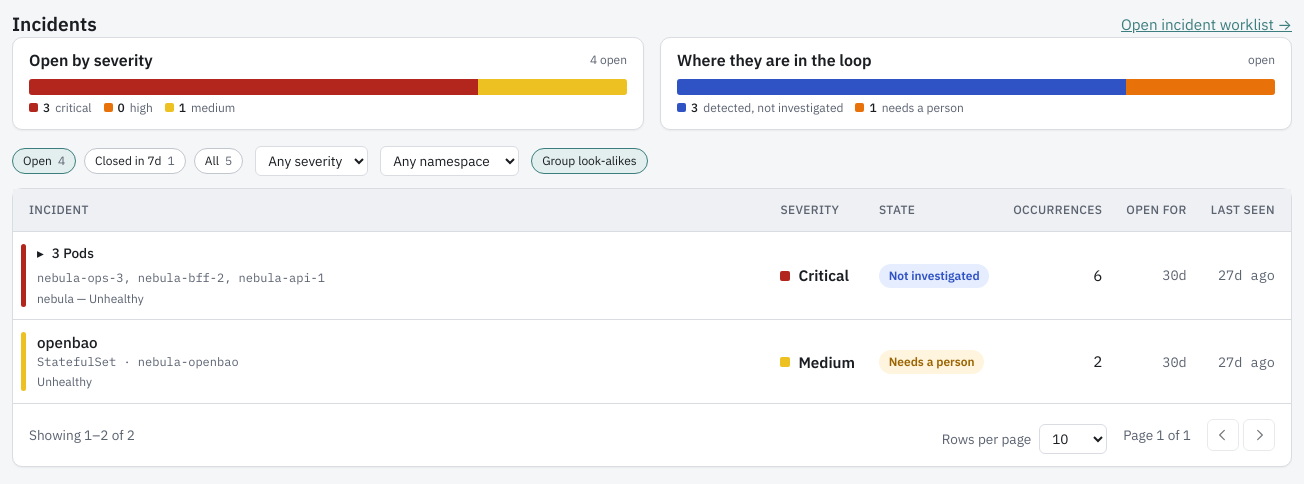
Cluster incidents tab › shows open by default, and closed ones on request
The image size is (1304, 484).
Expected: the text "old" is not shown
Click the button "Closed in 7d 1": [135, 161] box [84,148,186,174]
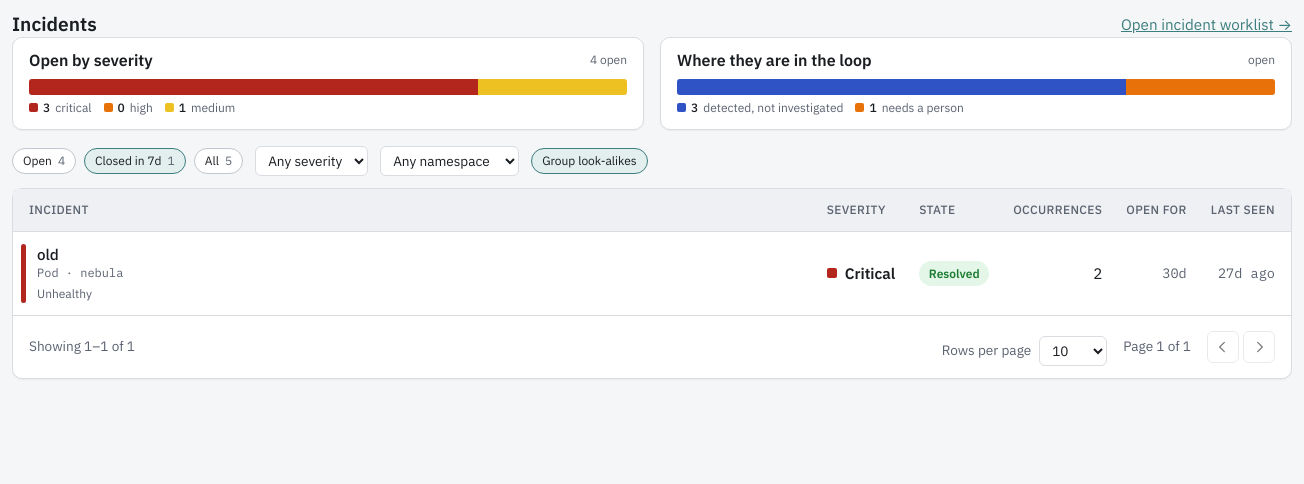
Expected: the link "old" is shown, [37,244,59,265]
